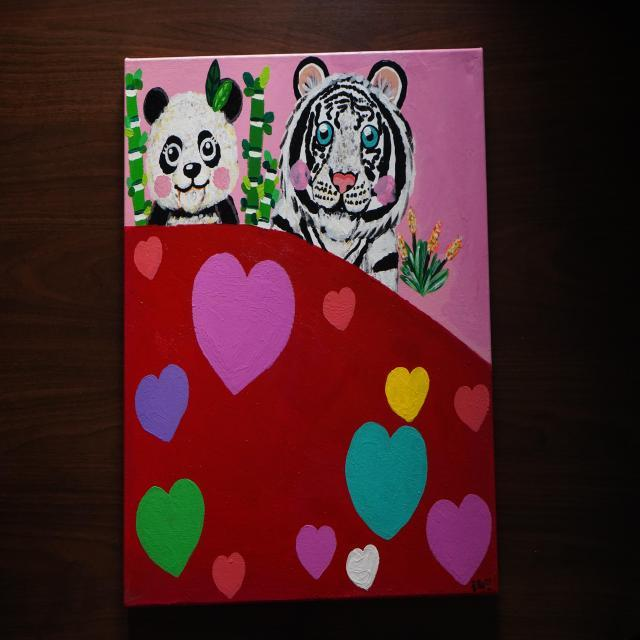painting: (124, 49, 497, 606)
